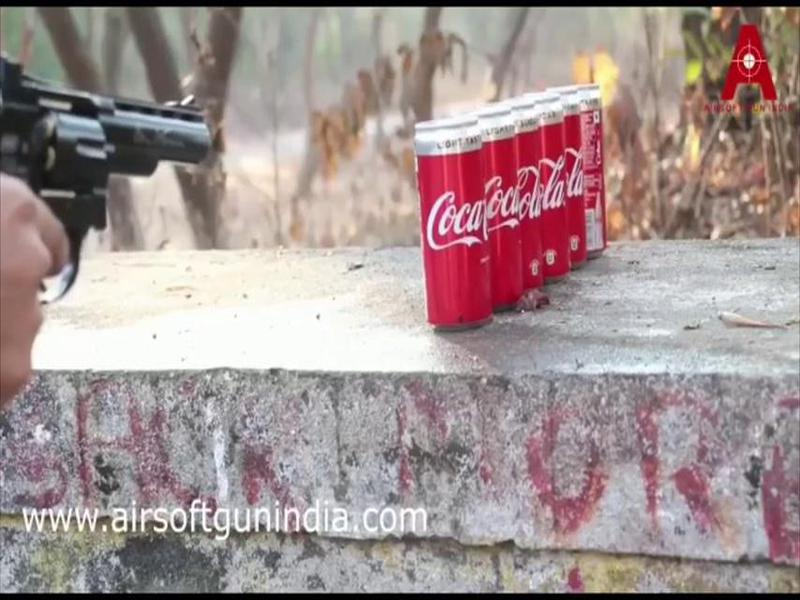Revolver: (4, 52, 224, 278)
